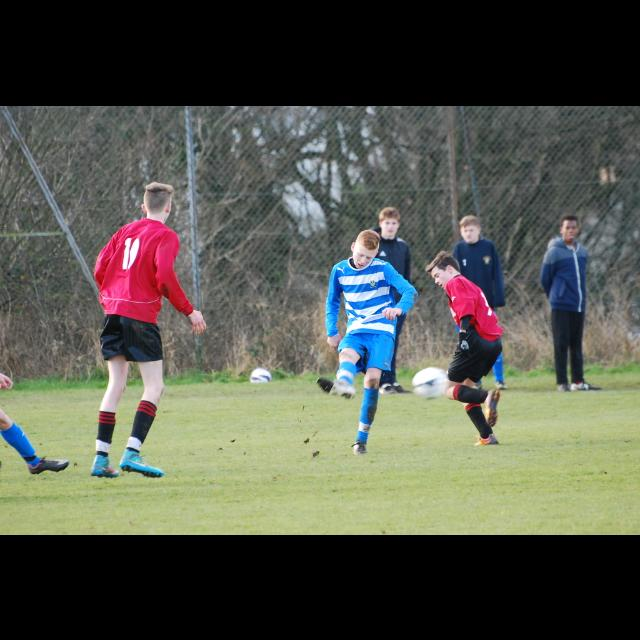Football: (407, 366, 447, 398), (248, 365, 272, 379)
